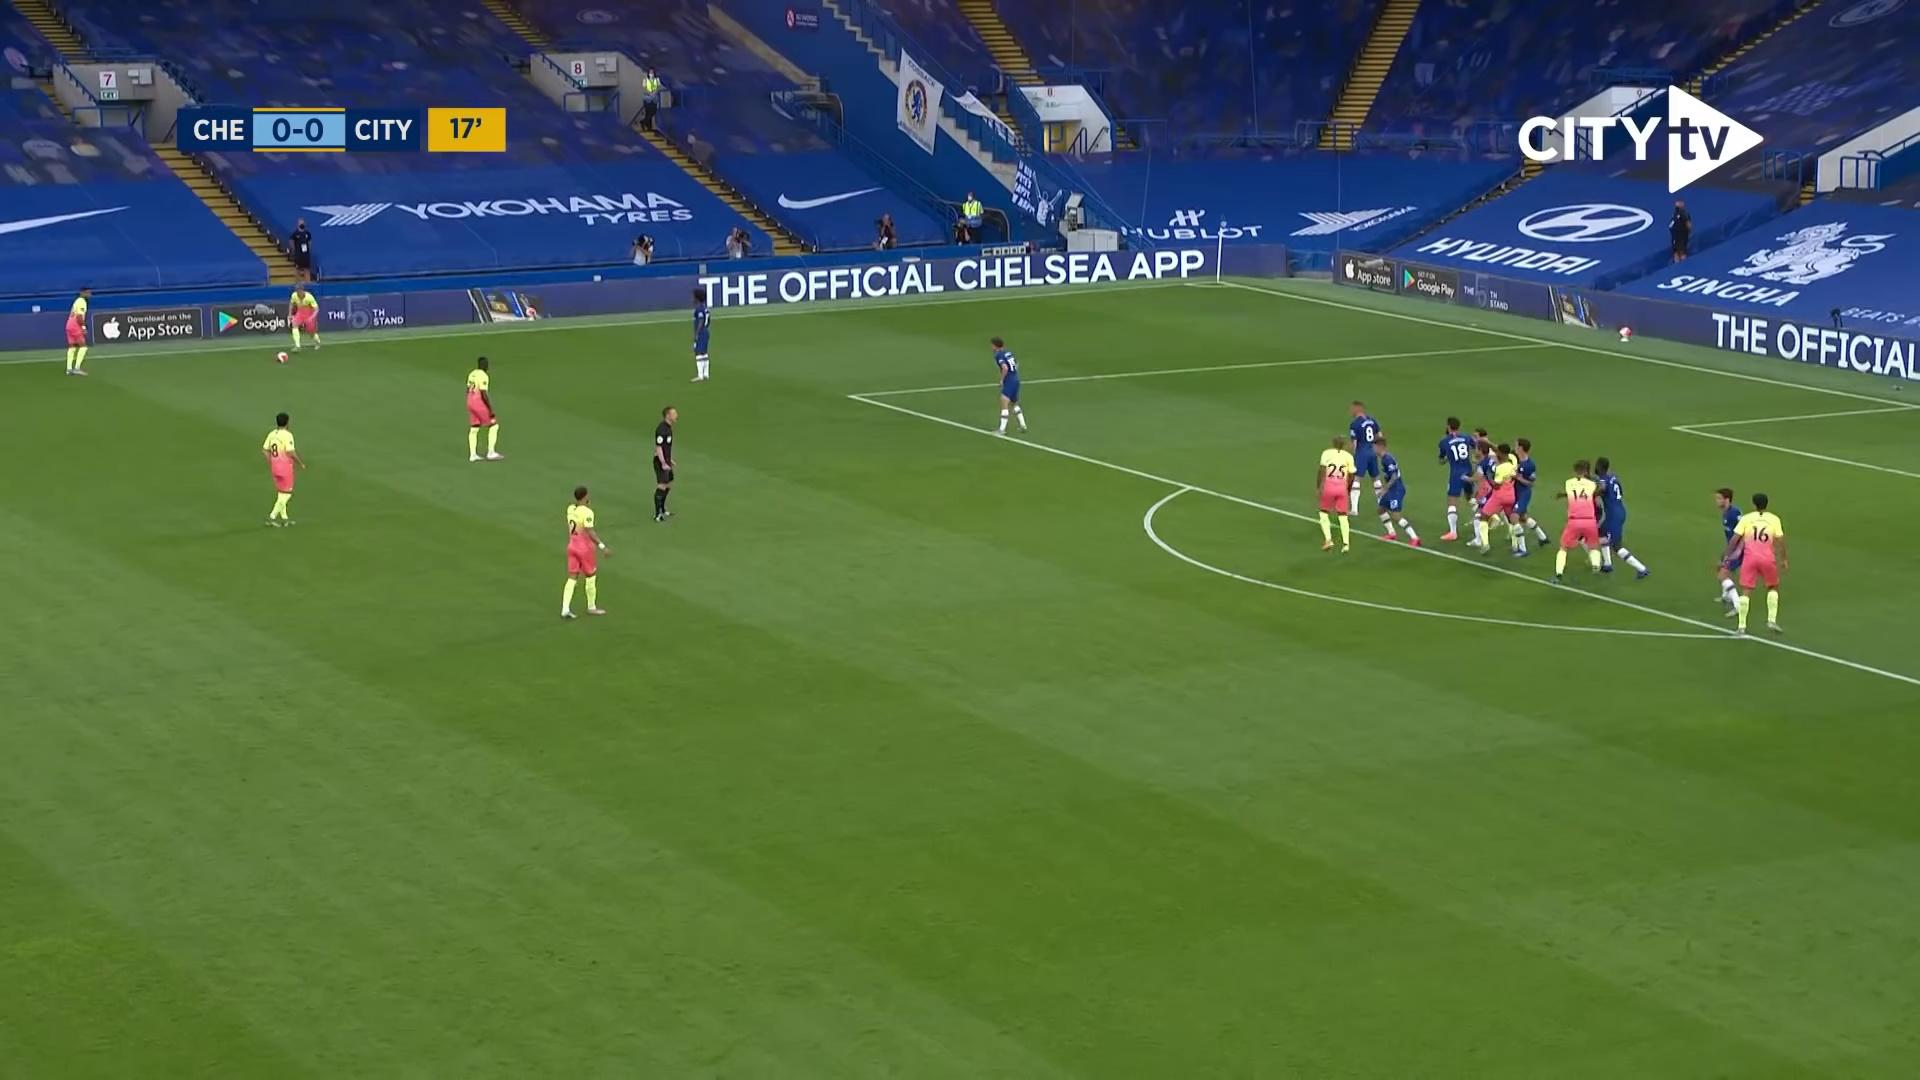ball: (273, 349, 289, 365)
